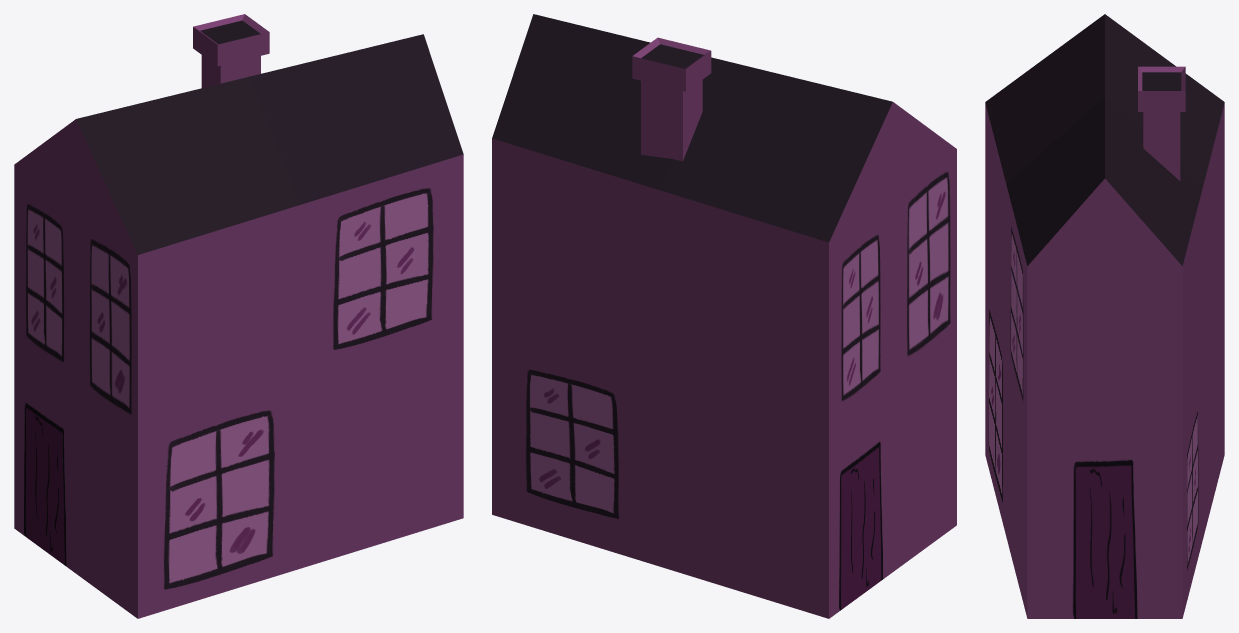
File: House_4.fbx
3 views of the same model, side by side, from view 1: azimuth 30°, elevation 25°; view 2: azimuth 150°, elevation 25°; view 3: azimuth 270°, elevation 25° (orthographic). The views are drawn at different scales.
Visible parts, largest first — view 1: Cube; view 2: Cube; view 3: Cube.
Boxes of the visible parts, x1=… form: Cube: x1=14, y1=14, x2=463, y2=618; Cube: x1=492, y1=14, x2=956, y2=618; Cube: x1=985, y1=14, x2=1224, y2=618.
Bounding box in the file's own units: 1200 × 1576 × 739.
